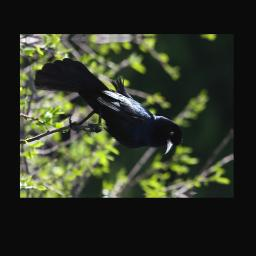Crow: (35, 55, 185, 158)
